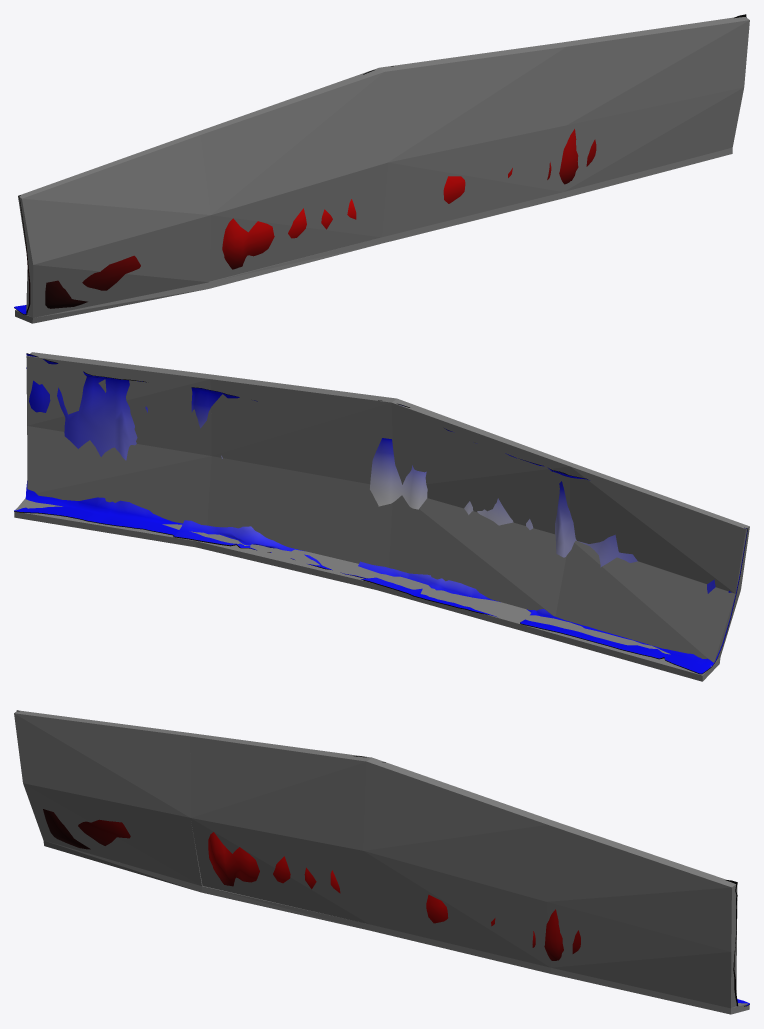
Rendered from Tent_05_Mesh.fbx.
The picture shows the model from 3 angles, top to bottom: view 1: azimuth 30°, elevation 25°; view 2: azimuth 150°, elevation 25°; view 3: azimuth 330°, elevation 25°; orthographic projection.
Parts seen in each view (by area): view 1: Tent_05_COL_02, Tent_05_COL_05, Tent_05_COL_00, Tent_05_COL_07, Tent_05_COL_04, Tent_05_COL_06, Tent_05_COL_03, Tent_05_COL_01, Tent_05_LOD0, Tent_05_COL_08, Tent_05_COL_10, Tent_05_COL_09 (+1 smaller); view 2: Tent_05_LOD0, Tent_05_COL_05, Tent_05_COL_04, Tent_05_COL_02, Tent_05_COL_03, Tent_05_COL_01, Tent_05_COL_00, Tent_05_COL_06, Tent_05_COL_07, Tent_05_COL_10, Tent_05_COL_09, Tent_05_COL_08 (+1 smaller); view 3: Tent_05_COL_05, Tent_05_COL_02, Tent_05_COL_07, Tent_05_COL_00, Tent_05_COL_04, Tent_05_COL_06, Tent_05_COL_03, Tent_05_COL_01, Tent_05_LOD0, Tent_05_COL_11, Tent_05_COL_10, Tent_05_COL_09 (+1 smaller).
Part boxes in pixels (left/top/right/bottom): Tent_05_COL_02: left=197, top=68, right=387, bottom=214; Tent_05_COL_05: left=379, top=42, right=566, bottom=162; Tent_05_COL_00: left=18, top=132, right=210, bottom=264; Tent_05_COL_07: left=562, top=17, right=749, bottom=125; Tent_05_COL_04: left=382, top=125, right=566, bottom=237; Tent_05_COL_06: left=563, top=87, right=743, bottom=191; Tent_05_COL_03: left=209, top=162, right=387, bottom=281; Tent_05_COL_01: left=26, top=215, right=210, bottom=317; Tent_05_LOD0: left=14, top=14, right=746, bottom=314; Tent_05_COL_08: left=15, top=282, right=209, bottom=323; Tent_05_COL_10: left=381, top=192, right=563, bottom=243; Tent_05_COL_09: left=209, top=237, right=381, bottom=288; Tent_05_LOD0: left=14, top=353, right=747, bottom=674; Tent_05_COL_05: left=210, top=375, right=396, bottom=484; Tent_05_COL_04: left=207, top=456, right=392, bottom=567; Tent_05_COL_02: left=391, top=398, right=573, bottom=534; Tent_05_COL_03: left=389, top=495, right=566, bottom=616; Tent_05_COL_01: left=555, top=541, right=740, bottom=662; Tent_05_COL_00: left=569, top=463, right=749, bottom=593; Tent_05_COL_06: left=27, top=426, right=211, bottom=525; Tent_05_COL_07: left=26, top=352, right=215, bottom=455; Tent_05_COL_10: left=195, top=533, right=385, bottom=589; Tent_05_COL_09: left=376, top=574, right=554, bottom=636; Tent_05_COL_08: left=543, top=619, right=720, bottom=681; Tent_05_COL_05: left=363, top=757, right=552, bottom=901; Tent_05_COL_02: left=190, top=733, right=371, bottom=850; Tent_05_COL_07: left=546, top=820, right=737, bottom=951; Tent_05_COL_00: left=14, top=710, right=193, bottom=817; Tent_05_COL_04: left=363, top=851, right=550, bottom=967; Tent_05_COL_06: left=546, top=902, right=736, bottom=1008; Tent_05_COL_03: left=190, top=818, right=369, bottom=924; Tent_05_COL_01: left=23, top=783, right=202, bottom=885; Tent_05_LOD0: left=16, top=710, right=749, bottom=1006; Tent_05_COL_11: left=551, top=968, right=749, bottom=1014; Tent_05_COL_10: left=369, top=924, right=550, bottom=973; Tent_05_COL_09: left=201, top=886, right=369, bottom=930.
Size of the model in its own units: 1197 by 96.59 by 292.
